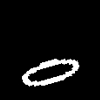chain: (22, 59, 78, 85)
